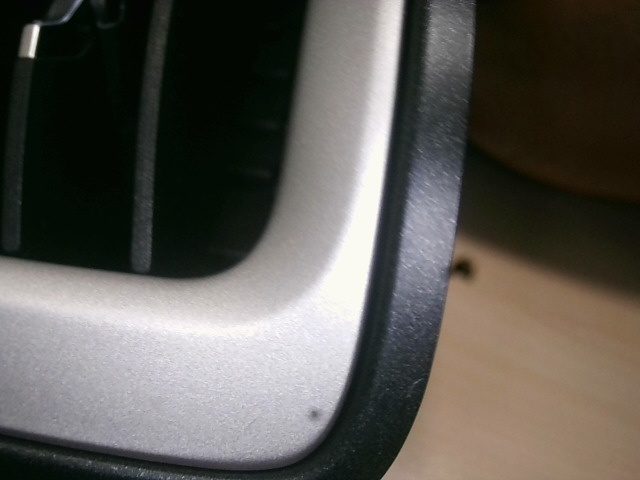NG: (241, 408, 270, 434), (410, 371, 430, 395)
